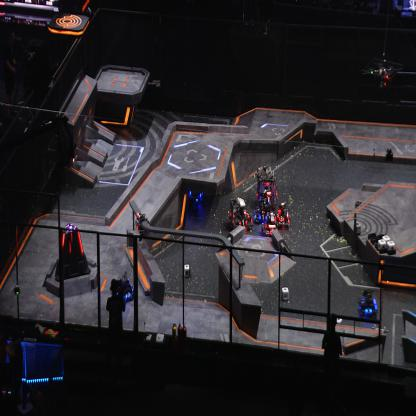car: (178, 165, 205, 210), (256, 164, 278, 210), (229, 195, 253, 232), (114, 270, 135, 304), (358, 288, 379, 319), (252, 196, 272, 223), (261, 211, 280, 239), (274, 202, 290, 231)
